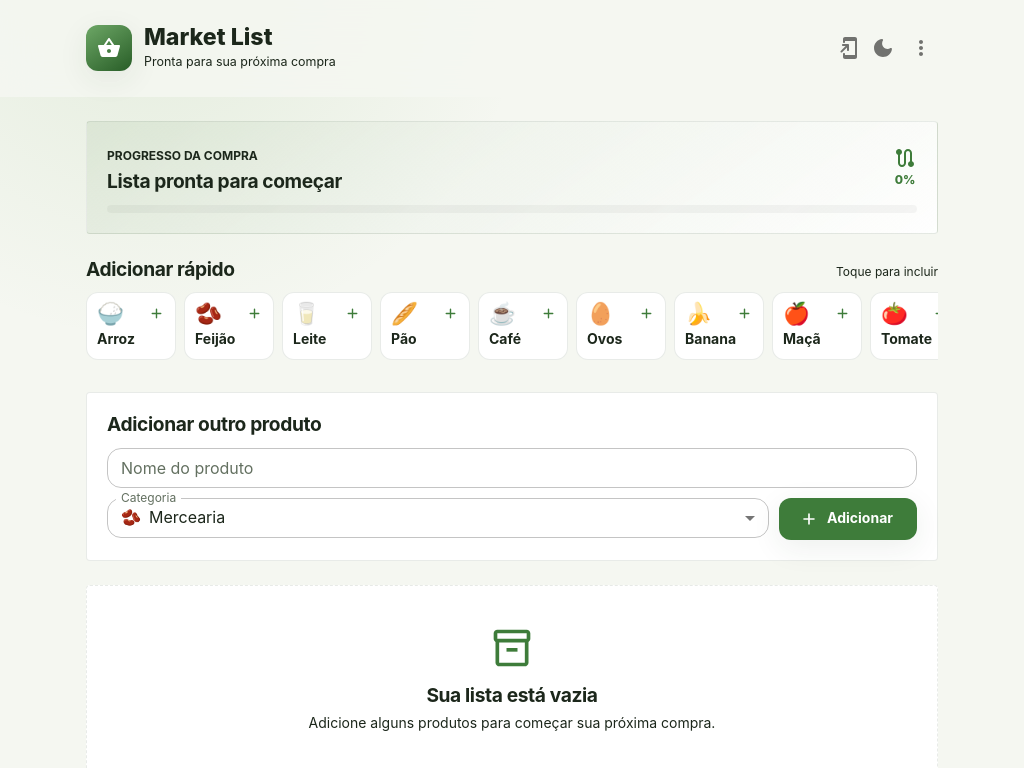
Scenario: shopping page › clears the list only after confirmation
The image size is (1024, 768).
Click the button with aria-label "Adicionar Arroz": (131, 326) [86,292,176,360]
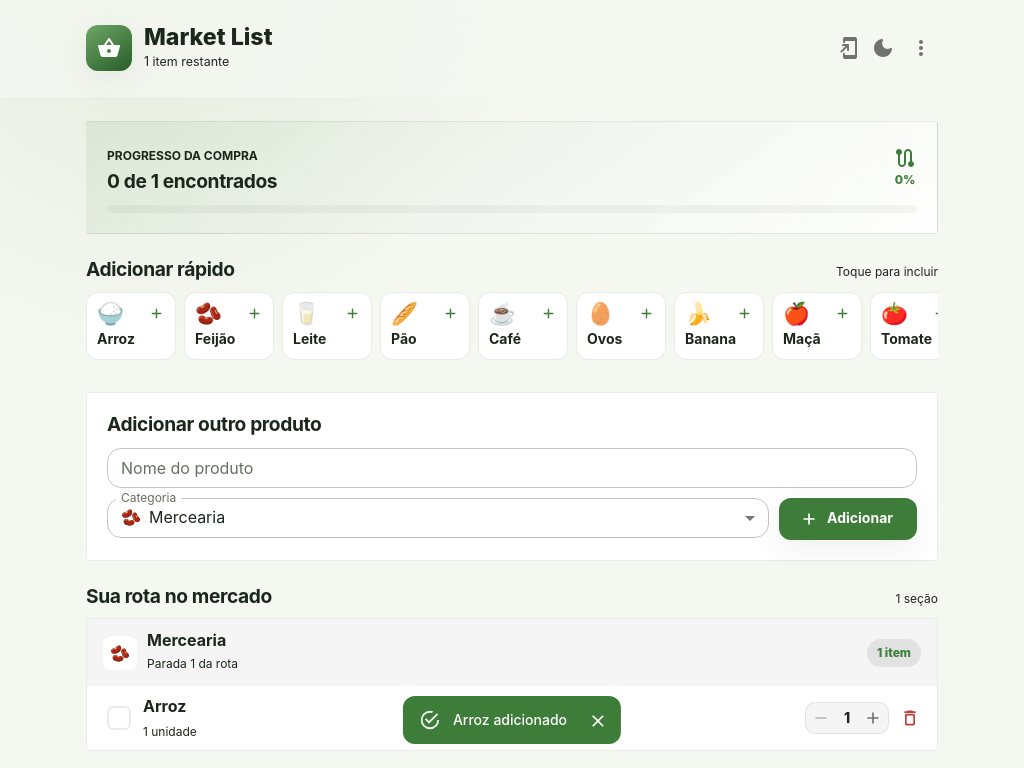
Click the button named "Abrir ações da lista": (921, 48) [904,31,938,65]
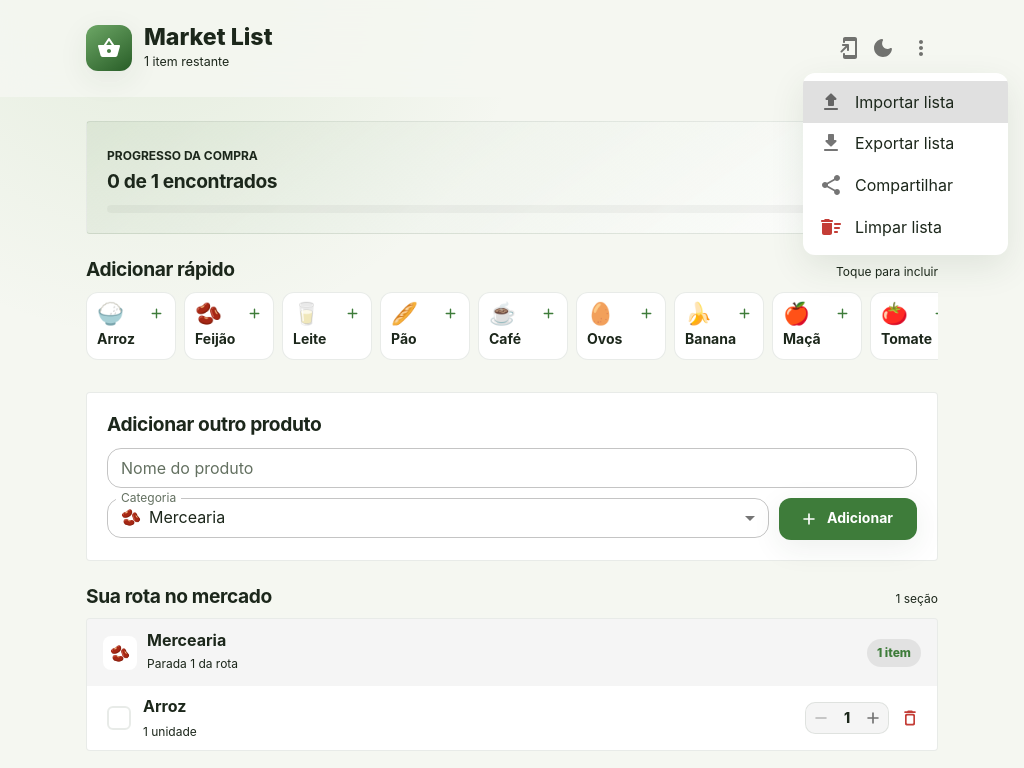
Click the menu item "Limpar lista": (880, 227) [819,215,942,239]
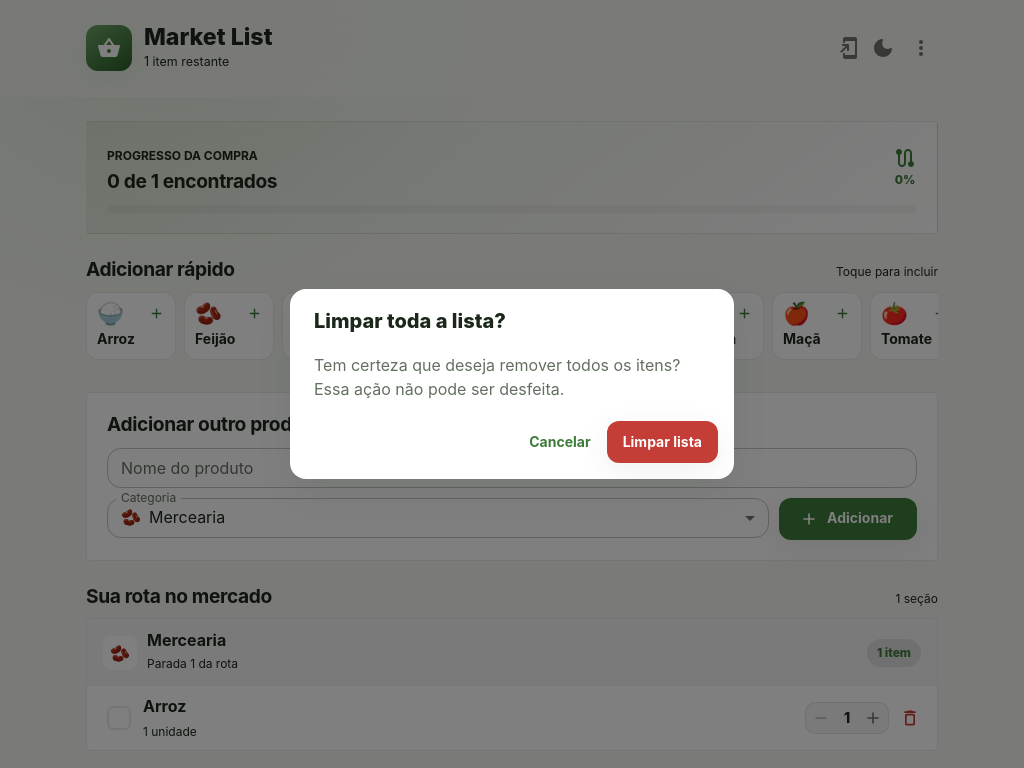
Click the button "Limpar lista": (662, 442) [607,421,718,463]
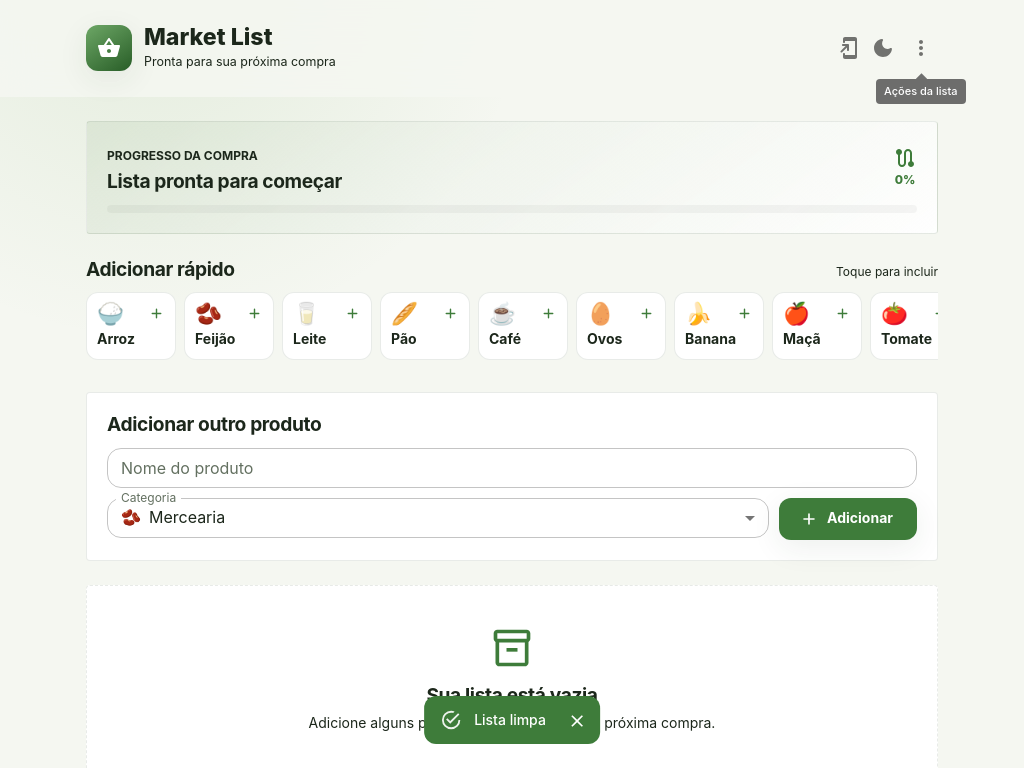
Result: the heading "Sua lista está vazia" is shown at [426,683,598,707]
